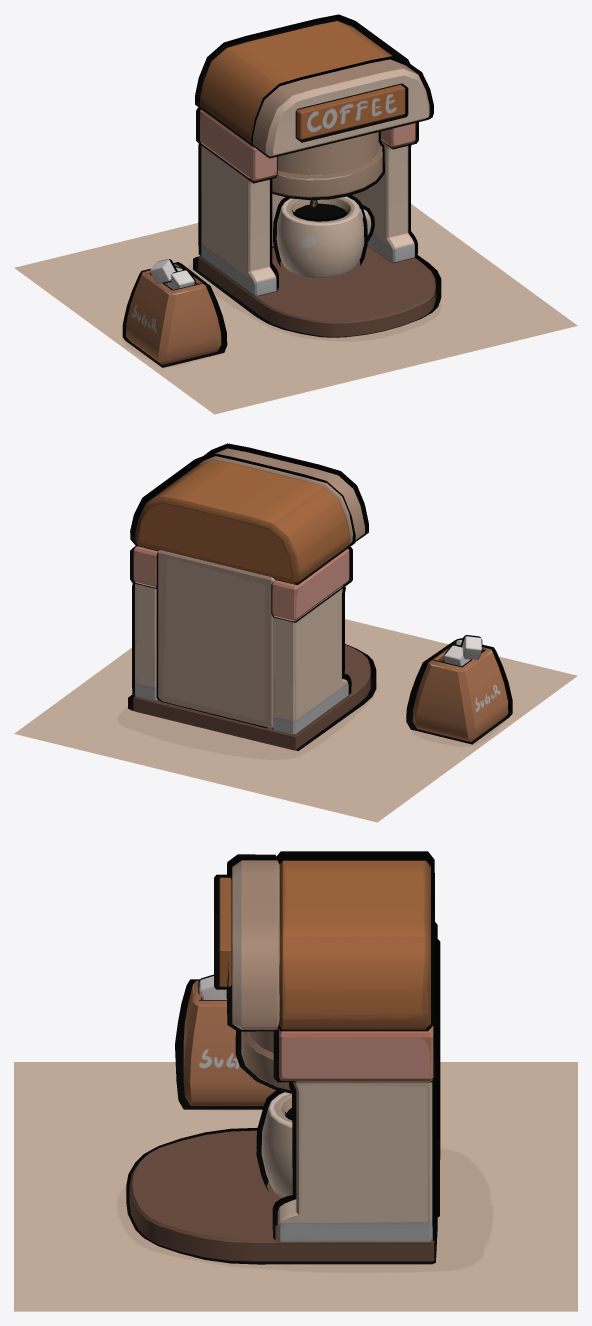
Rendered from Coffee_machine_cel.fbx.
3 renders of one model, top to bottom at view 1: azimuth 30°, elevation 25°; view 2: azimuth 150°, elevation 25°; view 3: azimuth 270°, elevation 25°, orthographic. The views are drawn at different scales.
Parts seen in each view (by area): view 1: Coffe_machine, plan, Sugar_container (×2), Coffe, polySurface4, Coffe1, polySurface5, polySurface10, polySurface9, polySurface11, polySurface6; view 2: Coffe_machine, plan, Sugar_container (×2), polySurface4, polySurface5, polySurface10; view 3: Coffe_machine, plan, Sugar_container (×2), polySurface4, Coffe, polySurface10, polySurface2, polySurface7, polySurface5, polySurface3, polySurface11, Coffe1.
Part boxes in pixels (left/top/right/bottom): Coffe_machine: left=198, top=21, right=435, bottom=337; plan: left=14, top=204, right=577, bottom=414; Sugar_container (×2): left=122, top=262, right=227, bottom=367; Coffe: left=276, top=196, right=371, bottom=278; polySurface4: left=195, top=14, right=409, bottom=146; Coffe1: left=273, top=195, right=374, bottom=267; polySurface5: left=251, top=56, right=433, bottom=158; polySurface10: left=193, top=255, right=441, bottom=337; polySurface9: left=198, top=141, right=278, bottom=289; polySurface11: left=295, top=83, right=408, bottom=142; polySurface6: left=272, top=131, right=384, bottom=200; Coffe_machine: left=133, top=448, right=370, bottom=750; plan: left=14, top=619, right=577, bottom=822; Sugar_container (×2): left=406, top=639, right=512, bottom=744; polySurface4: left=130, top=453, right=355, bottom=585; polySurface5: left=200, top=443, right=368, bottom=541; polySurface10: left=128, top=644, right=376, bottom=750; Coffe_machine: left=129, top=860, right=434, bottom=1261; plan: left=14, top=1062, right=577, bottom=1311; Sugar_container (×2): left=175, top=979, right=275, bottom=1109; polySurface4: left=274, top=851, right=434, bottom=1031; Coffe: left=261, top=1092, right=292, bottom=1197; polySurface10: left=126, top=1127, right=437, bottom=1264; polySurface2: left=272, top=1080, right=437, bottom=1240; polySurface7: left=434, top=936, right=440, bottom=1217; polySurface5: left=226, top=854, right=279, bottom=1031; polySurface3: left=273, top=1017, right=438, bottom=1082; polySurface11: left=214, top=874, right=230, bottom=989; Coffe1: left=256, top=1090, right=292, bottom=1191.
Size of the model in its own units: 159 by 95.21 by 152.
